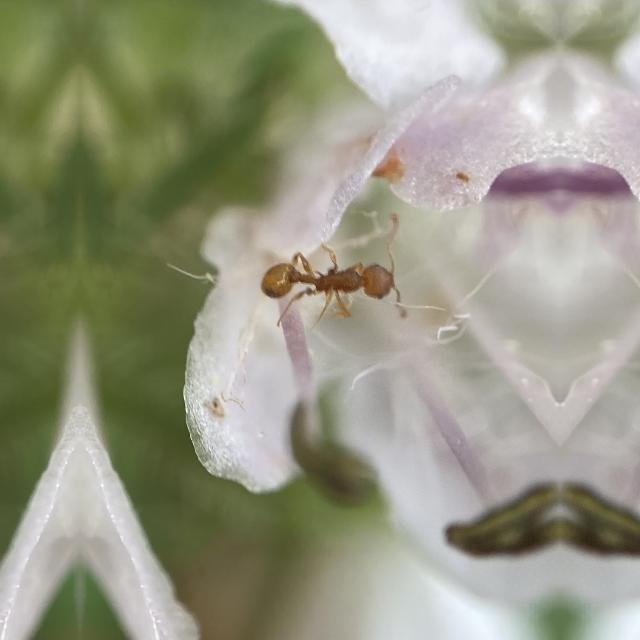Temnothorax: (249, 222, 415, 330)
